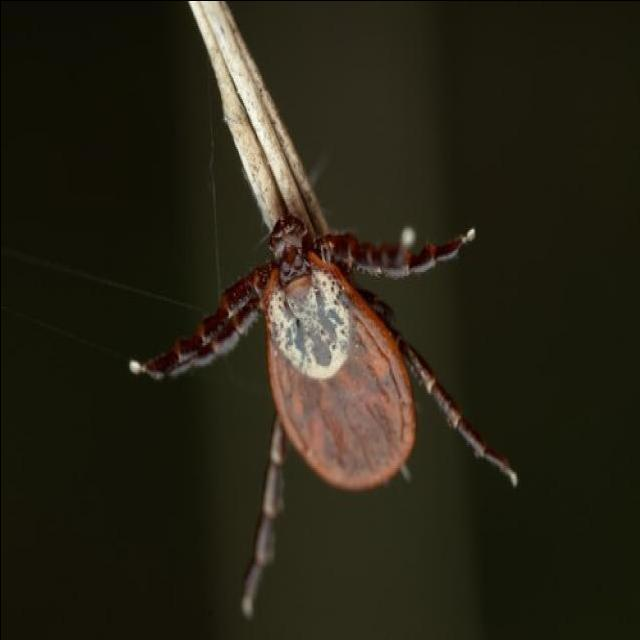Dermacentor Reticulatus-F: (137, 208, 495, 607)
